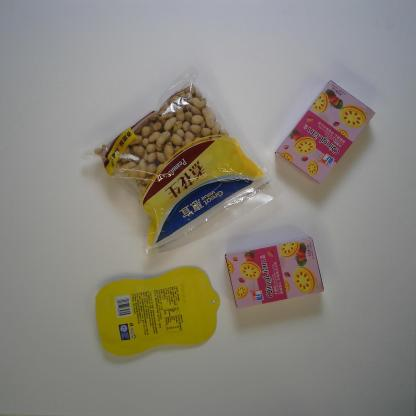Dessert: (274, 79, 376, 185), (224, 235, 325, 310)
Dried Food: (85, 61, 279, 256)
Dried Fruit: (95, 266, 221, 357)
